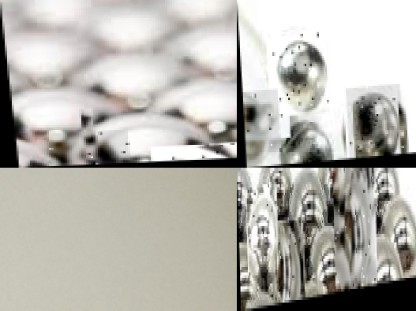ironball: (9, 89, 123, 142), (65, 114, 215, 152), (332, 168, 375, 293), (265, 33, 327, 118), (344, 86, 401, 160), (153, 86, 234, 134), (286, 171, 330, 244), (245, 184, 278, 277), (278, 117, 334, 165), (307, 231, 352, 290), (274, 218, 303, 305), (241, 89, 279, 154), (357, 237, 398, 292), (381, 201, 414, 265), (234, 231, 265, 297), (146, 144, 237, 163), (259, 167, 292, 208), (292, 277, 336, 303), (240, 287, 286, 311), (371, 167, 398, 202)
